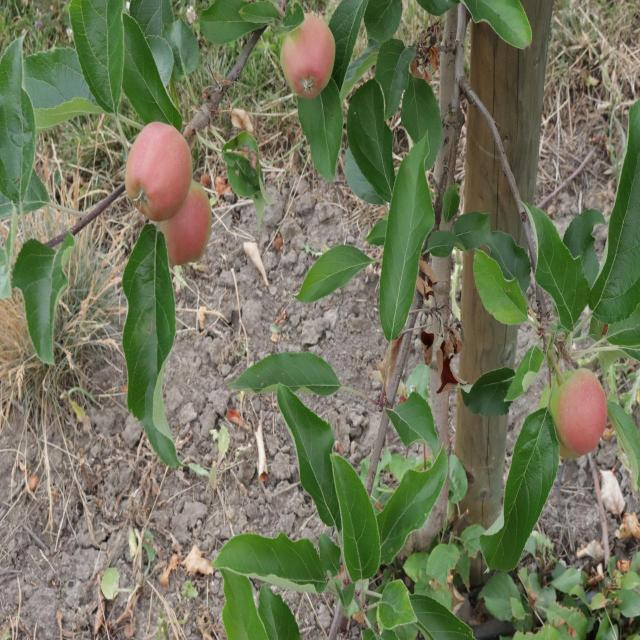-FireBlight-: (366, 262, 467, 407), (411, 20, 448, 81)
